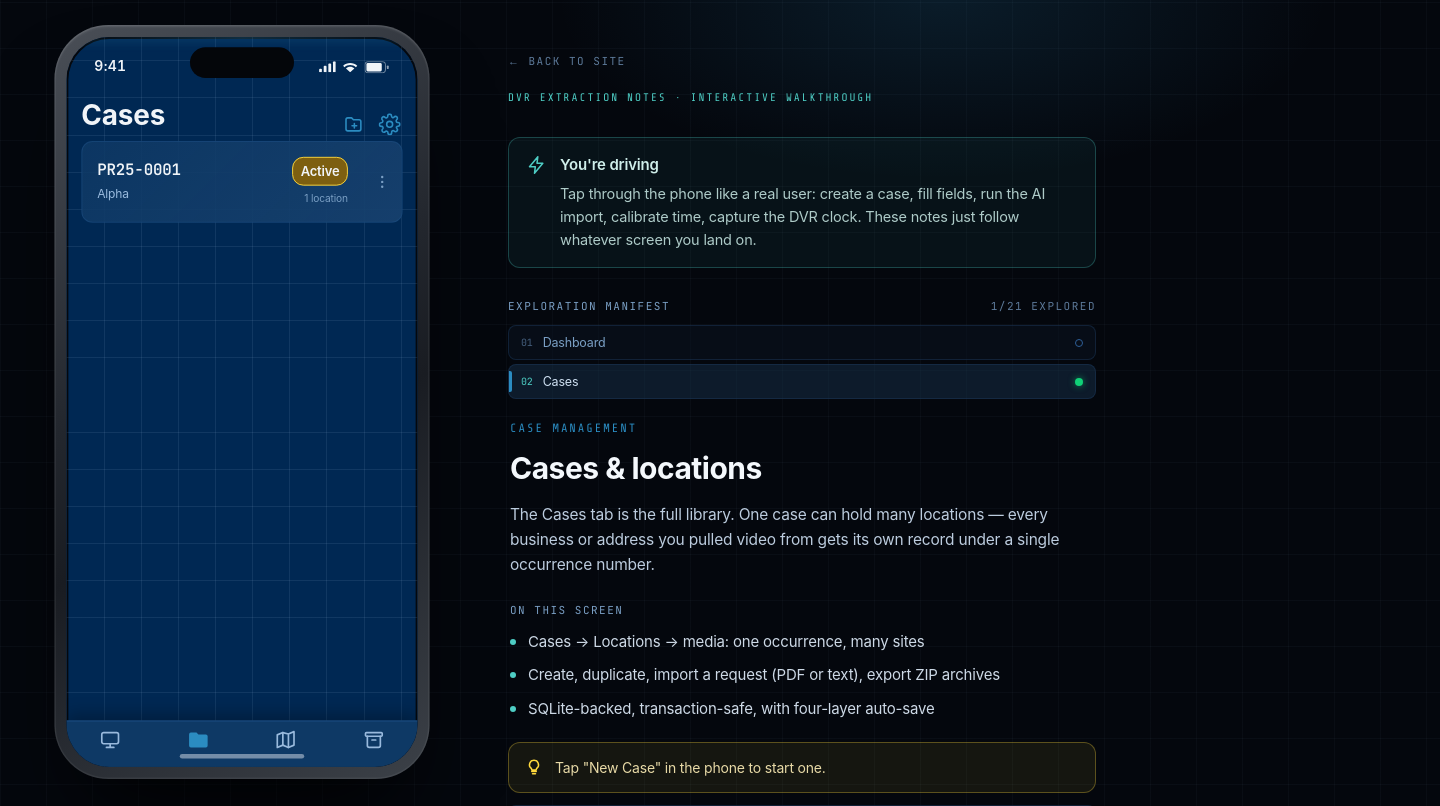
Test: DemoExperience — Export tab wiring › shows the export narration on the rail (a tab destination, not a chapter)
Click the button named "Export" at (374, 741), box [330,727,418,756]
(page scrolled)
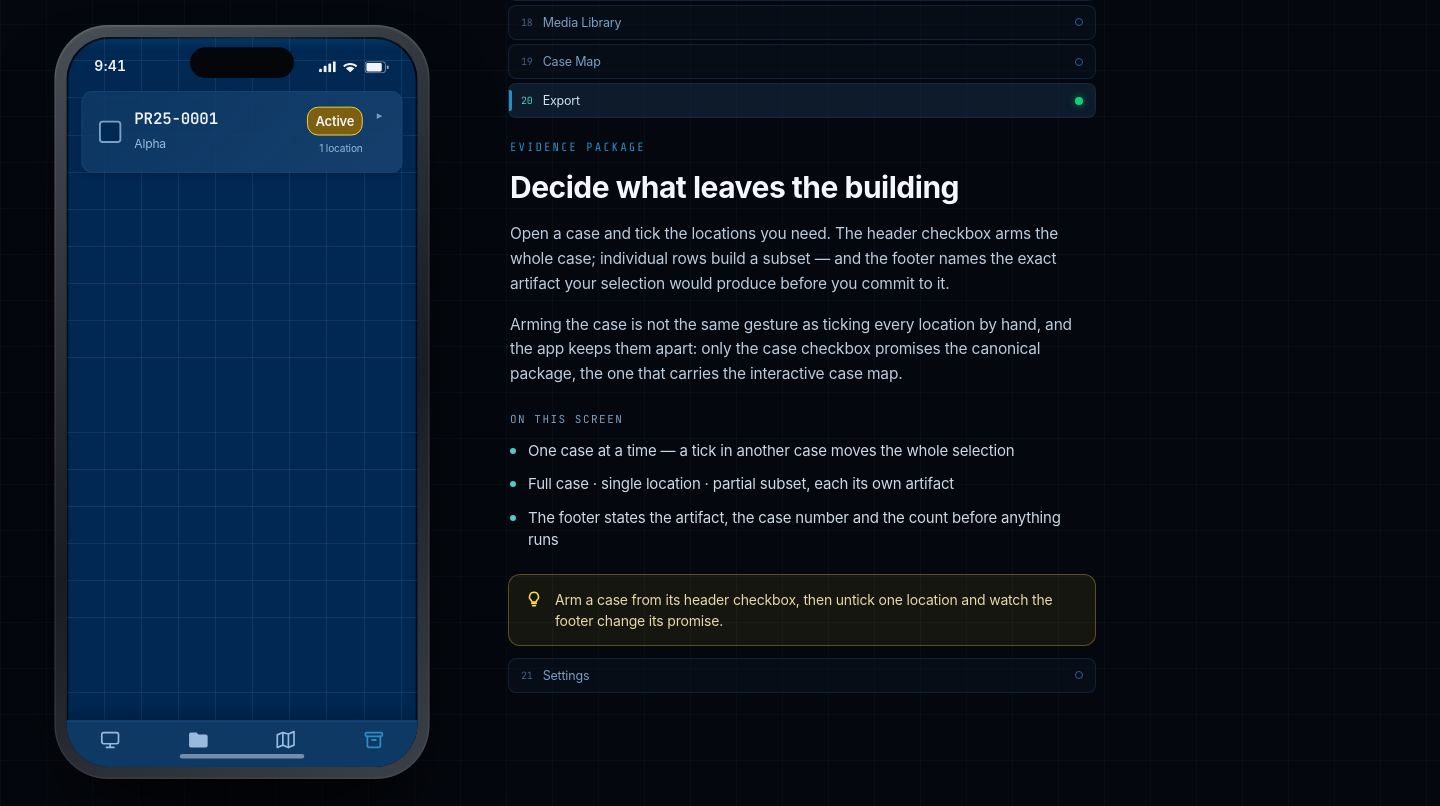
Expected: the heading "Decide what leaves the building" is shown, [510,169,959,205]
